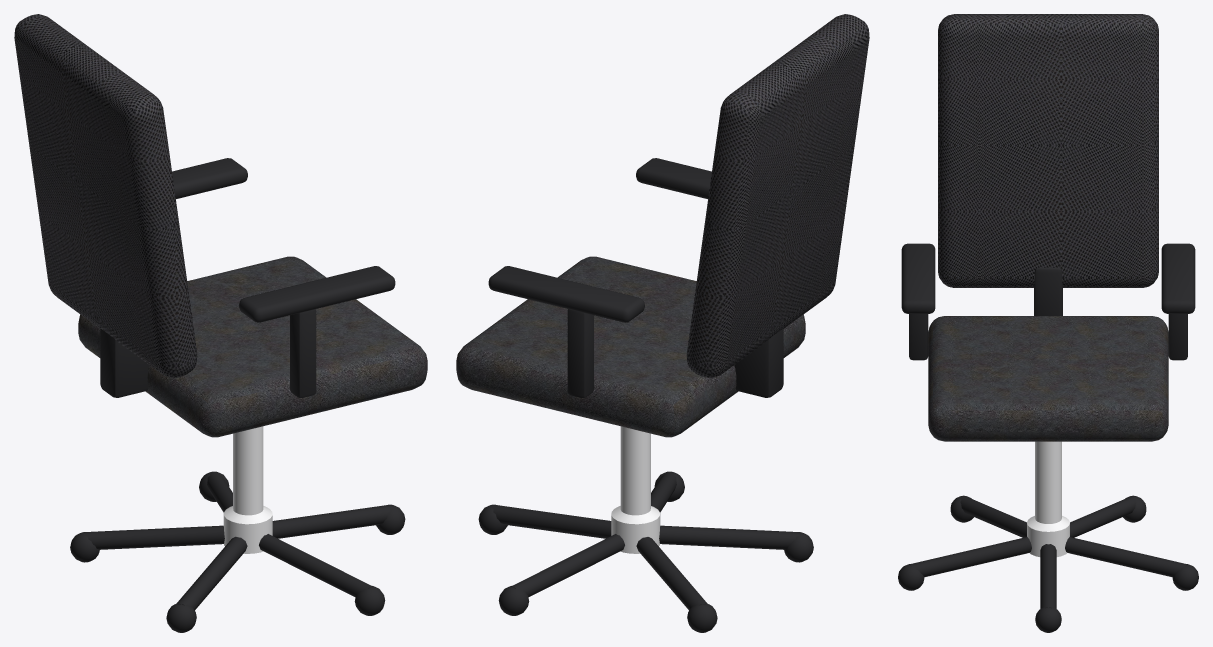
The model's file is recsYgunU8sGyJYnA.glb.
The picture shows the model from 3 angles, left to right: view 1: azimuth 30°, elevation 25°; view 2: azimuth 150°, elevation 25°; view 3: azimuth 270°, elevation 25°; orthographic projection. The views are drawn at different scales.
Visible parts, largest first — view 1: chaise_bureau_noire_Corps; view 2: chaise_bureau_noire_Corps; view 3: chaise_bureau_noire_Corps.
Boxes of the visible parts, x1=… form: chaise_bureau_noire_Corps: x1=14, y1=14, x2=427, y2=632; chaise_bureau_noire_Corps: x1=456, y1=14, x2=869, y2=632; chaise_bureau_noire_Corps: x1=898, y1=14, x2=1198, y2=632.
Bounding box in the file's own units: 0.7049 × 1.11 × 0.6252.
Materials: 4 (2 with a texture image).
